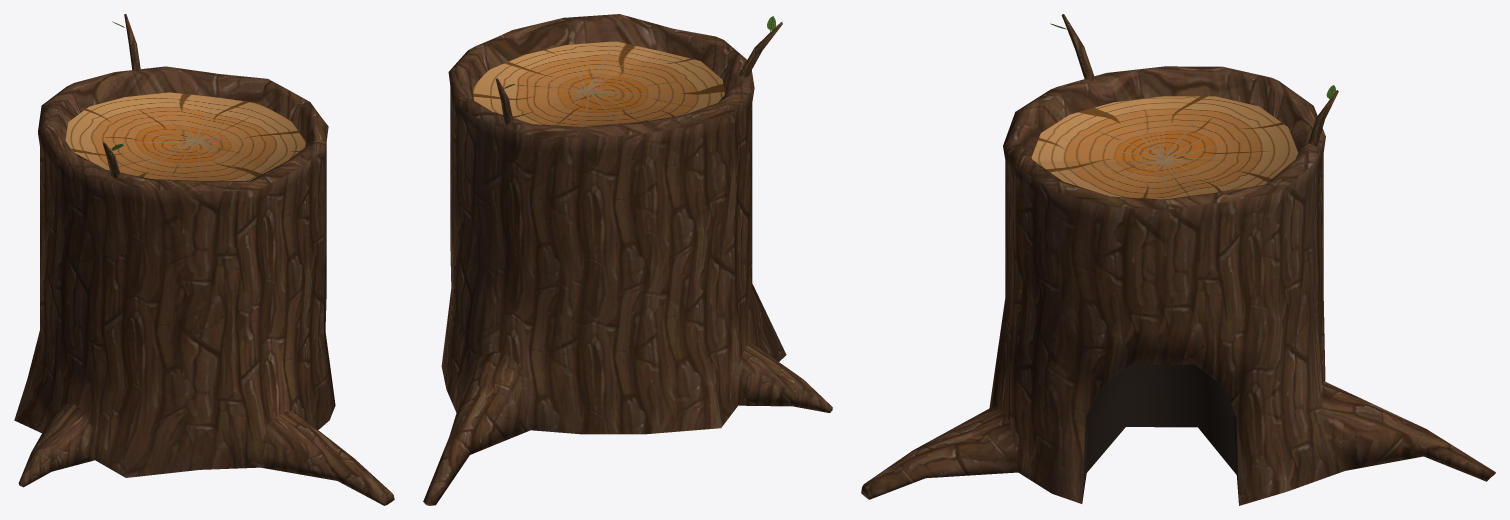
Rendered from WoodStump.fbx.
3 views of the same model, side by side, from view 1: azimuth 30°, elevation 25°; view 2: azimuth 150°, elevation 25°; view 3: azimuth 270°, elevation 25° (orthographic). The views are drawn at different scales.
Visible parts, largest first — view 1: Cylinder; view 2: Cylinder; view 3: Cylinder.
Boxes of the visible parts, left/top/right/bottom form: Cylinder: left=14, top=14, right=394, bottom=505; Cylinder: left=423, top=14, right=832, bottom=505; Cylinder: left=861, top=14, right=1495, bottom=505.
Bounding box in the file's own units: 254 × 271 × 399.
